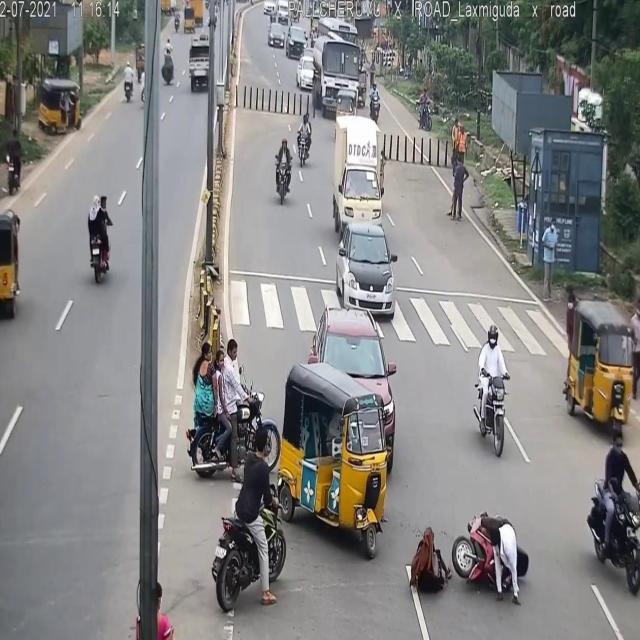accident: (402, 498, 533, 619)
non_accident: (331, 105, 401, 323), (295, 31, 383, 123), (252, 5, 294, 47), (180, 1, 208, 51)
